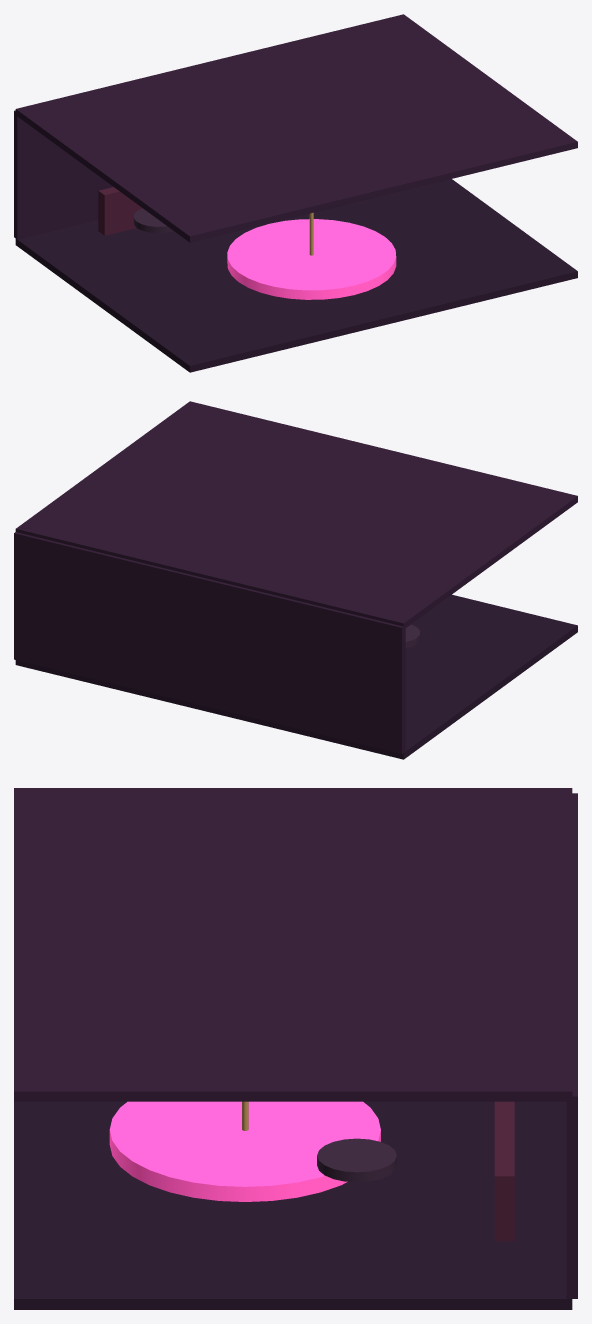
The model's file is velvet-stage-club.glb.
The picture shows the model from 3 angles, top to bottom: view 1: azimuth 30°, elevation 25°; view 2: azimuth 150°, elevation 25°; view 3: azimuth 270°, elevation 25°; orthographic projection. The views are drawn at different scales.
Parts seen in each view (by area): view 1: velvet-stage-club; view 2: velvet-stage-club; view 3: velvet-stage-club.
Part boxes in pixels (box(x1,y1,x2,y2)): velvet-stage-club: box(14, 14, 577, 372); velvet-stage-club: box(14, 401, 577, 759); velvet-stage-club: box(14, 788, 577, 1309).
Bounding box in the file's own units: 18 × 6.04 × 14.14.
